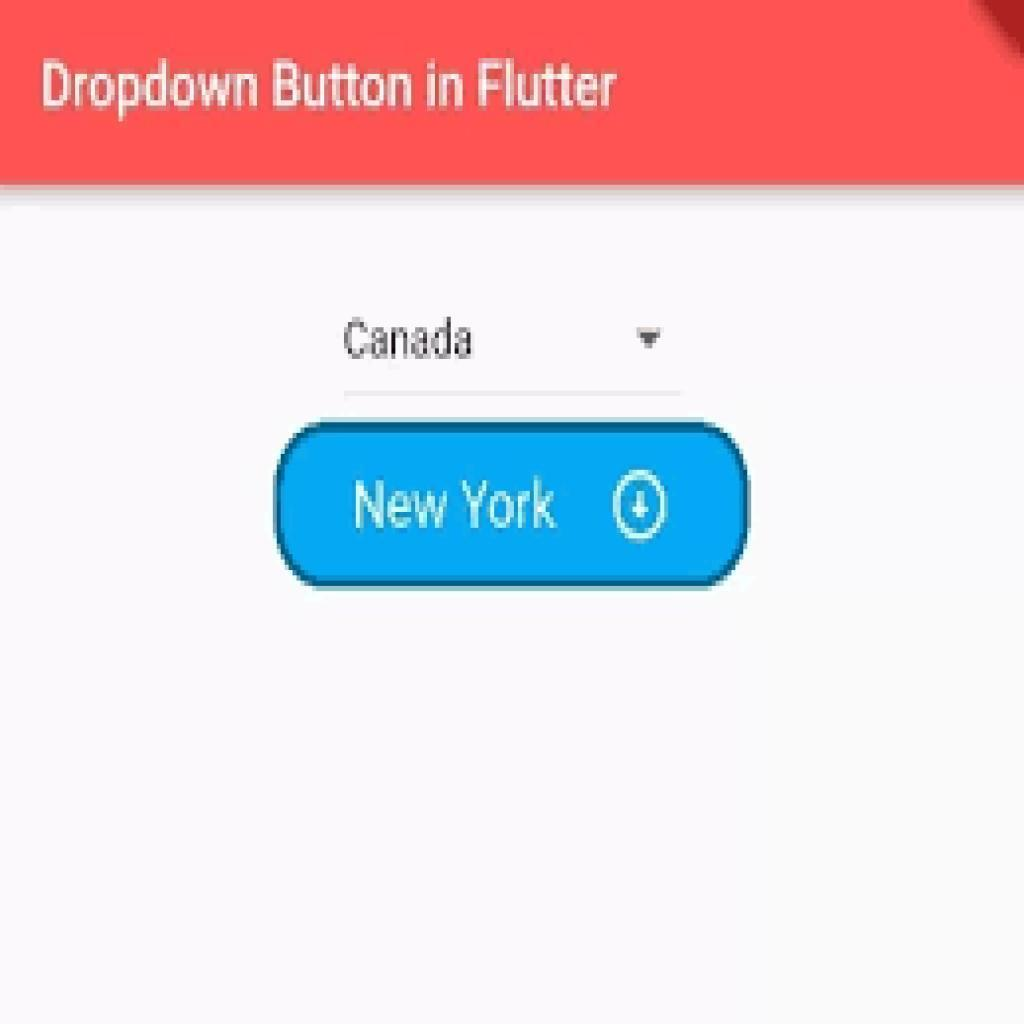button: (272, 420, 753, 588)
dropdown: (340, 289, 681, 397)
